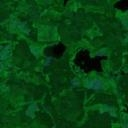alloviz: (72, 47, 108, 74), (42, 41, 66, 59), (111, 1, 128, 13)
